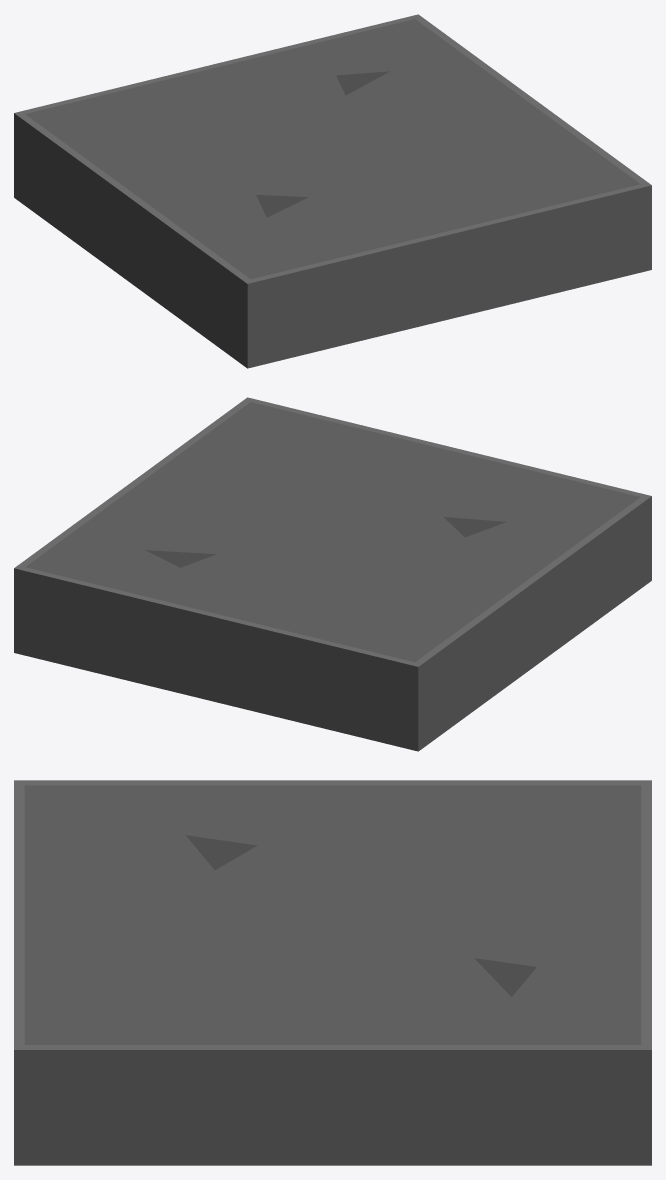
The model's file is ConcrateSlabs_B_4_2.fbx.
3 renders of one model, top to bottom at view 1: azimuth 30°, elevation 25°; view 2: azimuth 150°, elevation 25°; view 3: azimuth 270°, elevation 25°, orthographic. The views are drawn at different scales.
Parts seen in each view (by area): view 1: ConcrateSlabs_B_4_2; view 2: ConcrateSlabs_B_4_2; view 3: ConcrateSlabs_B_4_2.
Boxes of the visible parts, x1,y1,x2,y2 form: ConcrateSlabs_B_4_2: [14, 14, 651, 368]; ConcrateSlabs_B_4_2: [14, 397, 651, 751]; ConcrateSlabs_B_4_2: [14, 780, 651, 1165].
Size of the model in its own units: 200 by 40 by 200.
